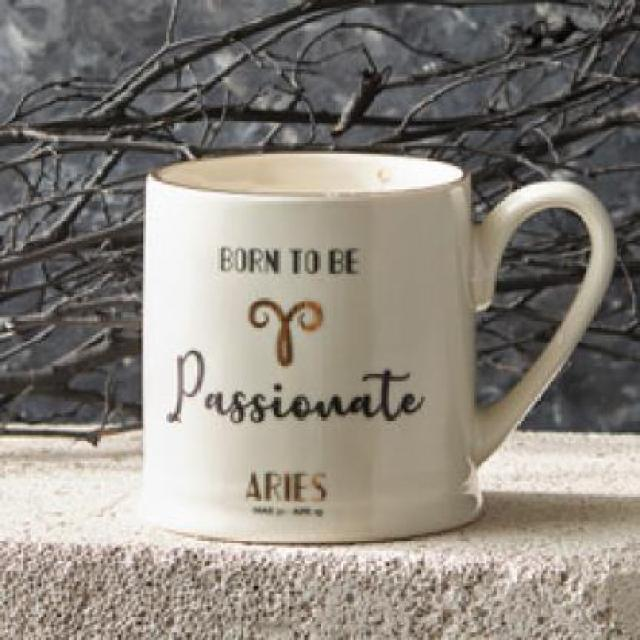taza: (143, 144, 615, 552)
